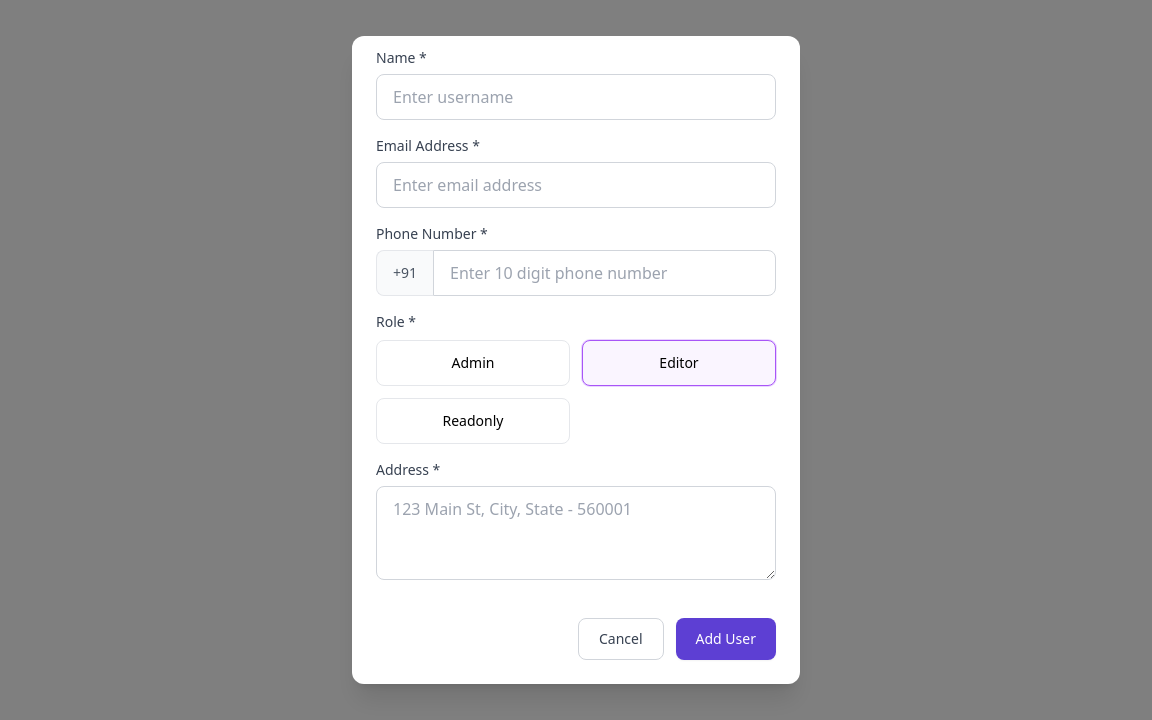
Test case: AddUser › shows validation errors for empty fields
(page scrolled)
Click the button "Add User": (726, 639) [676, 618, 776, 660]
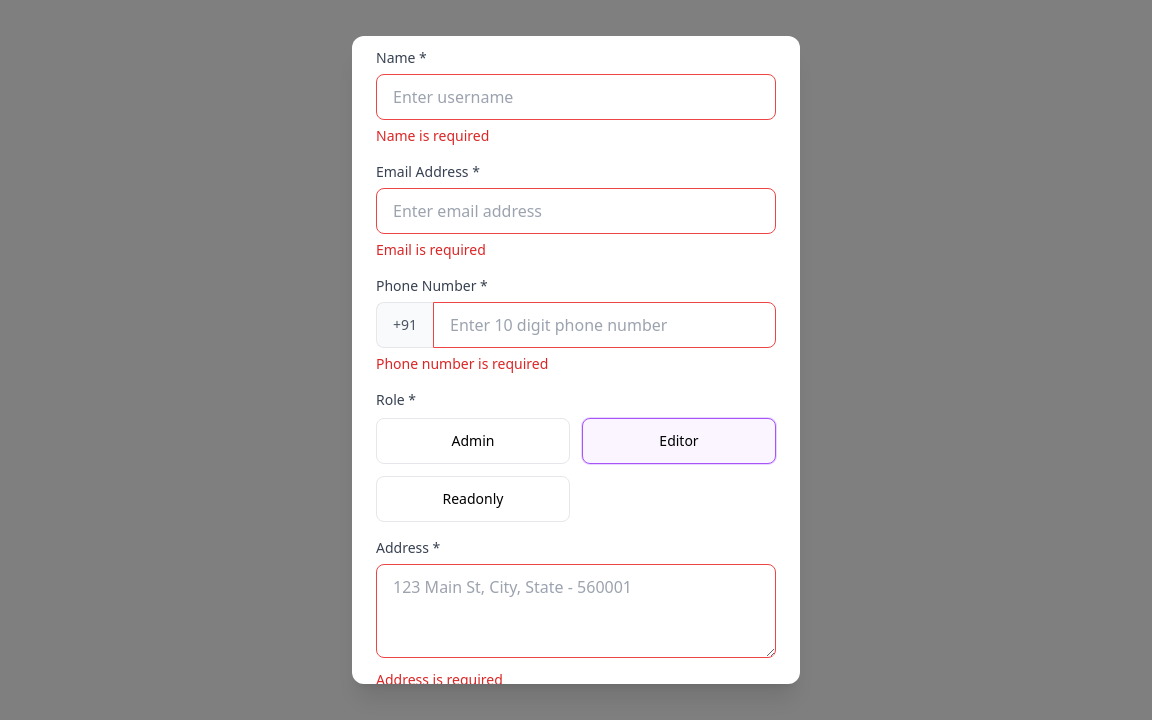
Expected: the text "Name is required" is shown, [376, 126, 489, 145]
Expected: the text "Email is required" is shown, [376, 240, 486, 259]
Expected: the text "Phone number is required" is shown, [376, 354, 548, 373]
